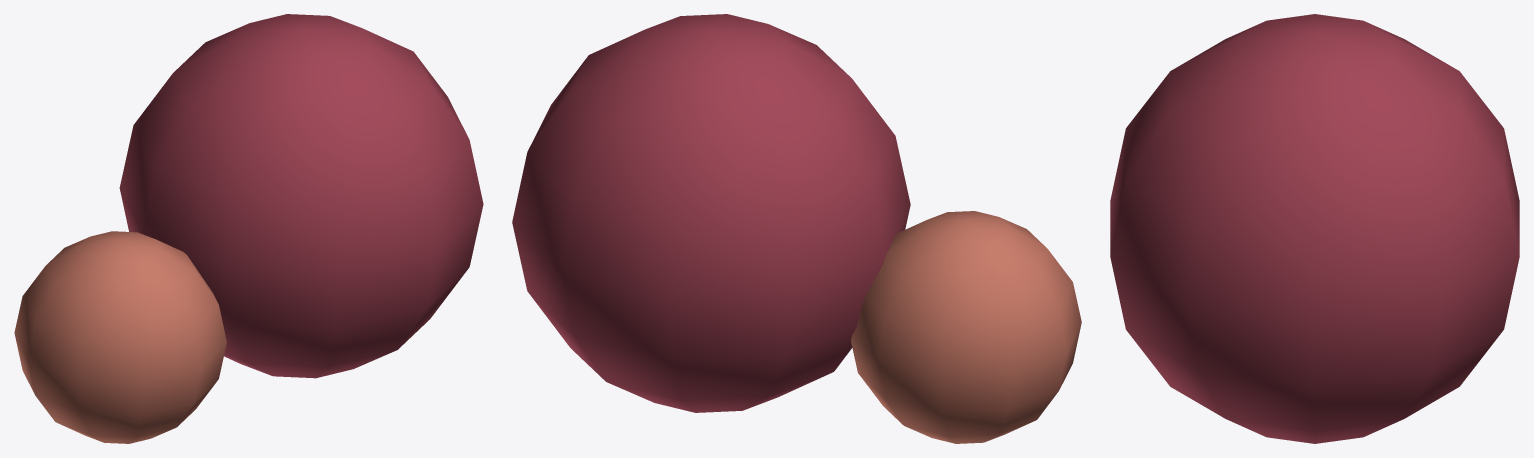
File: SM_Ball_Rose.fbx
The picture shows the model from 3 angles, left to right: view 1: azimuth 30°, elevation 25°; view 2: azimuth 150°, elevation 25°; view 3: azimuth 270°, elevation 25°; orthographic projection. The views are drawn at different scales.
Parts seen in each view (by area): view 1: pSphere5; view 2: pSphere5; view 3: pSphere5.
Boxes of the visible parts, x1,y1,x2,y2 form: pSphere5: (14, 14, 483, 443); pSphere5: (512, 14, 1081, 443); pSphere5: (1110, 14, 1519, 443).
Size of the model in its own units: 9.03 by 6.32 by 5.95.
